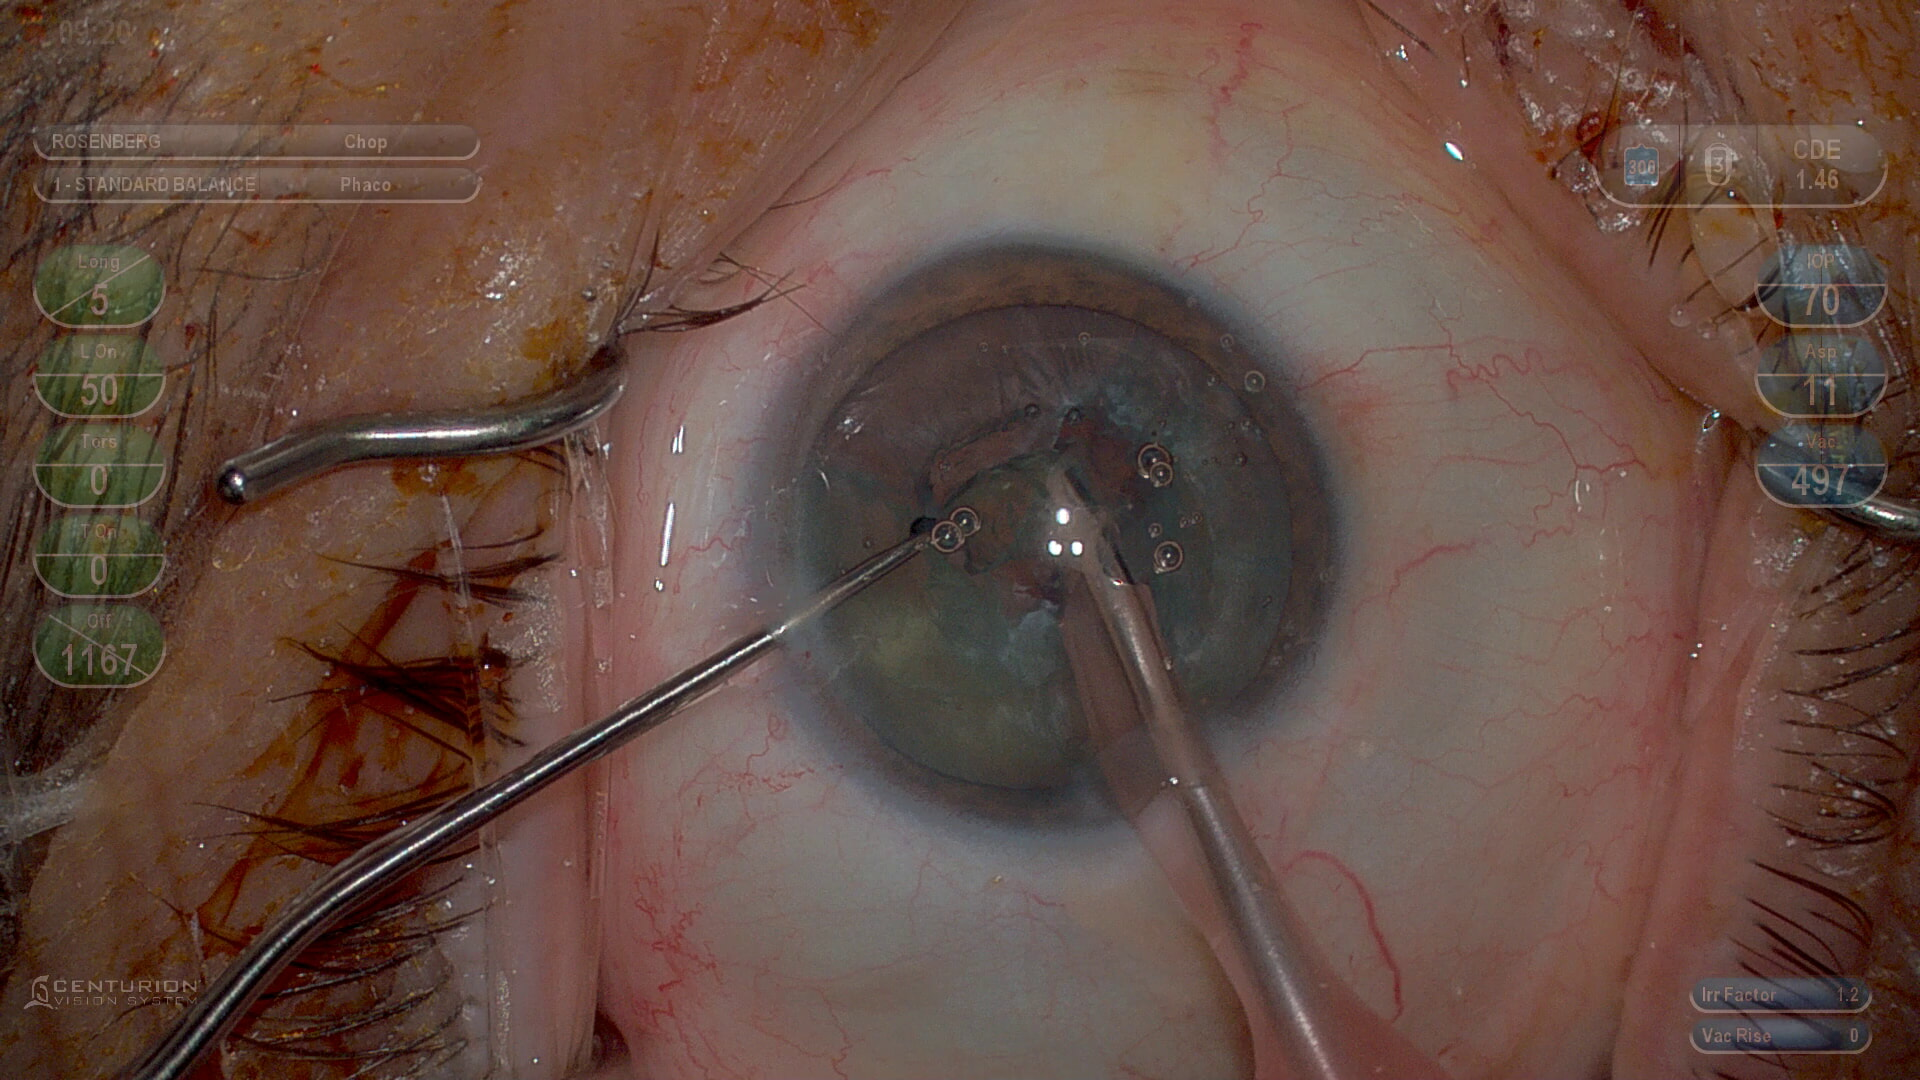iris: (772, 238, 1344, 833)
pupil: (810, 305, 1303, 795)
